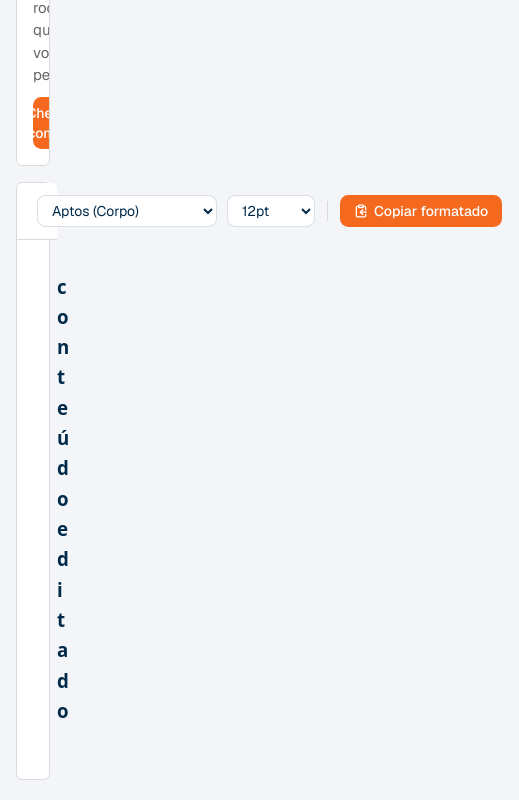
Scenario: EspacoProposta › falha ao salvar mostra o erro e "Tentar de novo" grava de novo
(page scrolled)
Clear the field named "Conteúdo da proposta". click: (63, 498)
box: left=57, top=274, right=69, bottom=723
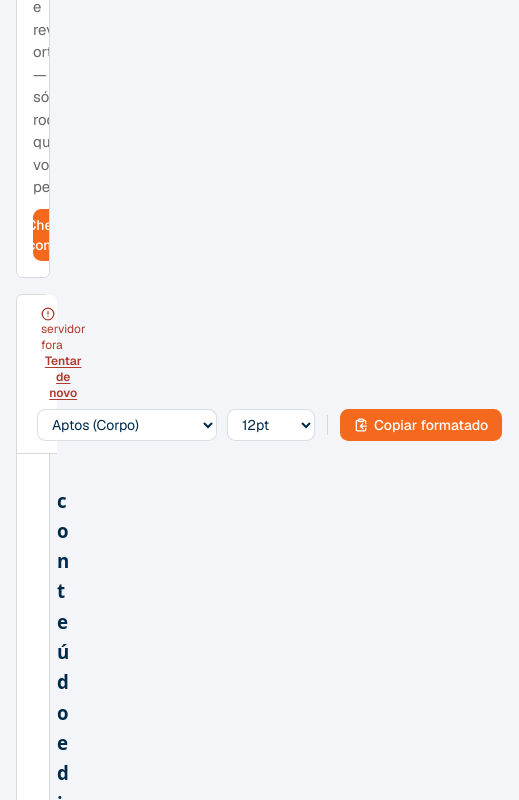
Expected: the text "servidor fora Tentar de novo" is shown, left=41, top=306, right=85, bottom=400
Click the button "Tentar de novo". click: (63, 376)
box: left=41, top=352, right=85, bottom=400
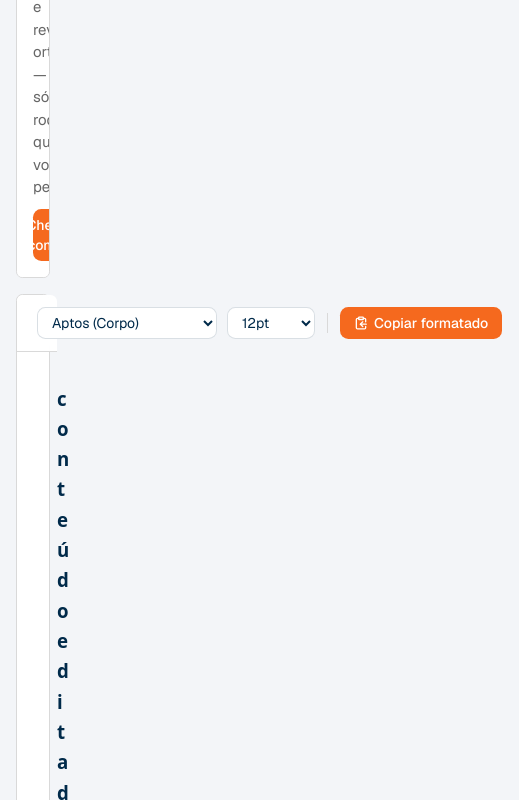
Expected: the message "servidor fora Tentar de novo" is gone
